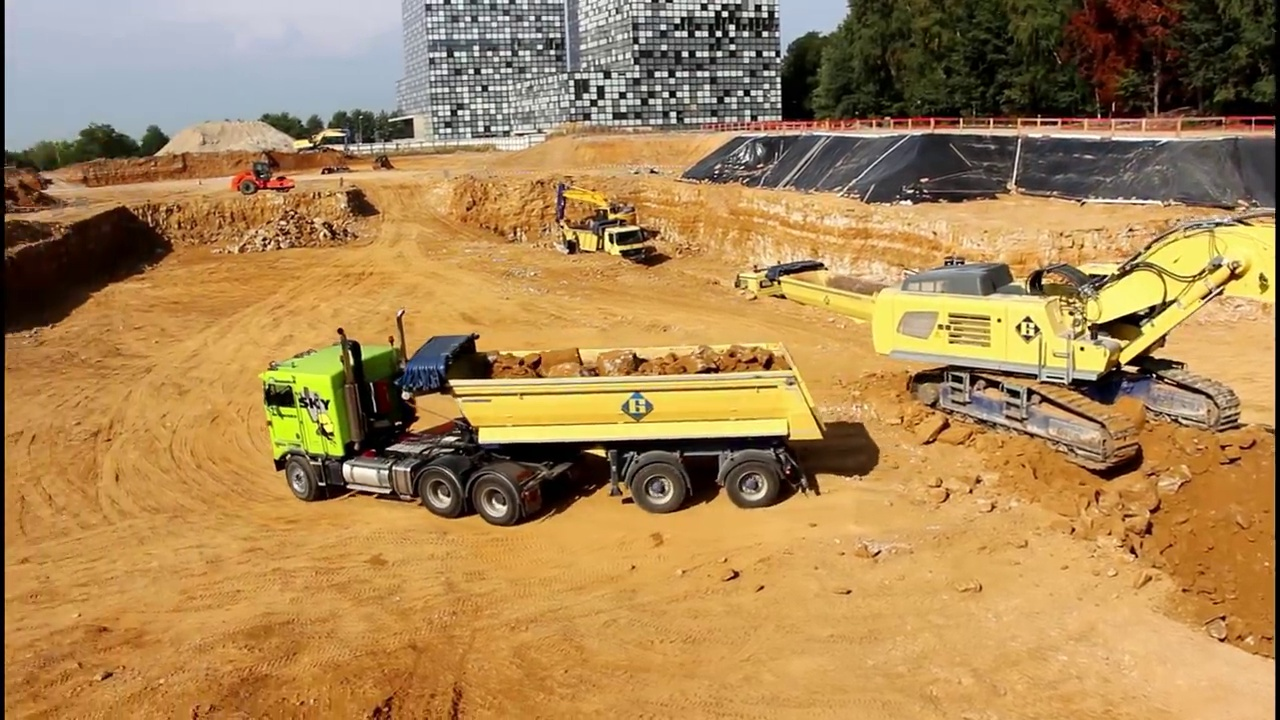compactor: (231, 162, 296, 196)
excavator: (867, 209, 1280, 477), (550, 178, 647, 248), (288, 123, 360, 161)
truck: (254, 305, 830, 531), (730, 254, 931, 361), (558, 220, 658, 272)
